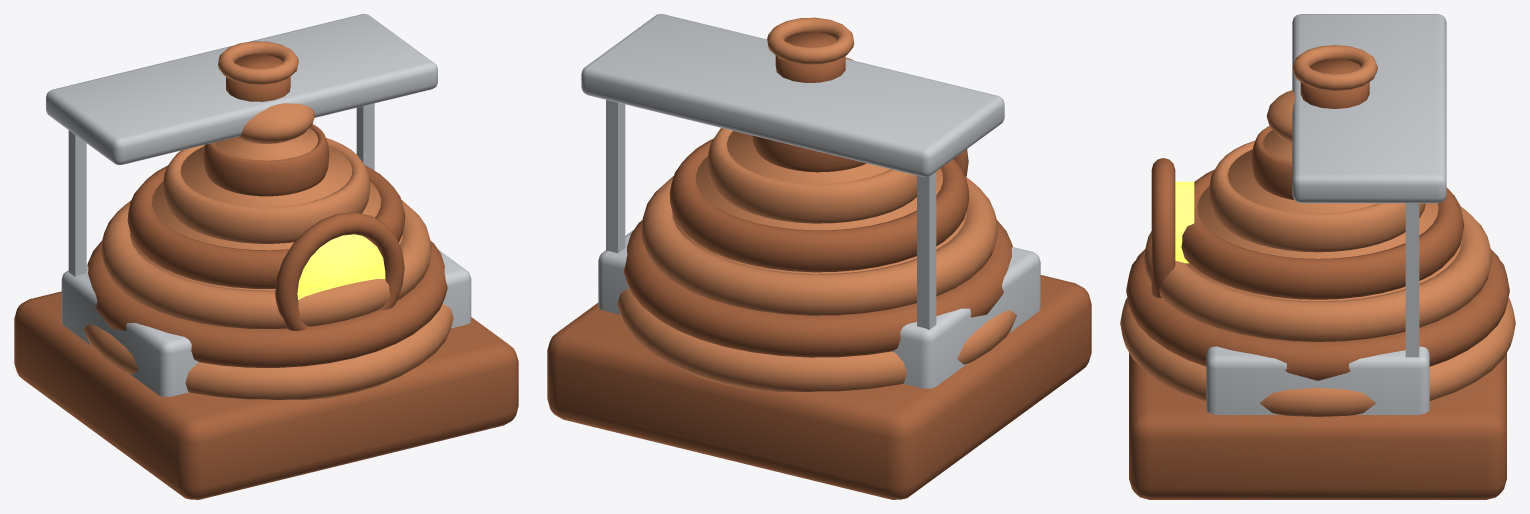
The model's file is props3.glb.
3 renders of one model, left to right at view 1: azimuth 30°, elevation 25°; view 2: azimuth 150°, elevation 25°; view 3: azimuth 270°, elevation 25°, orthographic. The views are drawn at different scales.
Parts seen in each view (by area): view 1: prop_oven, prop_grill; view 2: prop_oven, prop_grill; view 3: prop_oven, prop_grill.
Part boxes in pixels (<box>): prop_oven: <box>14,41,518,499</box>; prop_grill: <box>46,14,471,396</box>; prop_oven: <box>547,17,1091,499</box>; prop_grill: <box>581,14,1040,388</box>; prop_oven: <box>1120,45,1515,499</box>; prop_grill: <box>1206,14,1446,414</box>.
Bounding box in the file's own units: 2.4 × 2.46 × 2.31.
